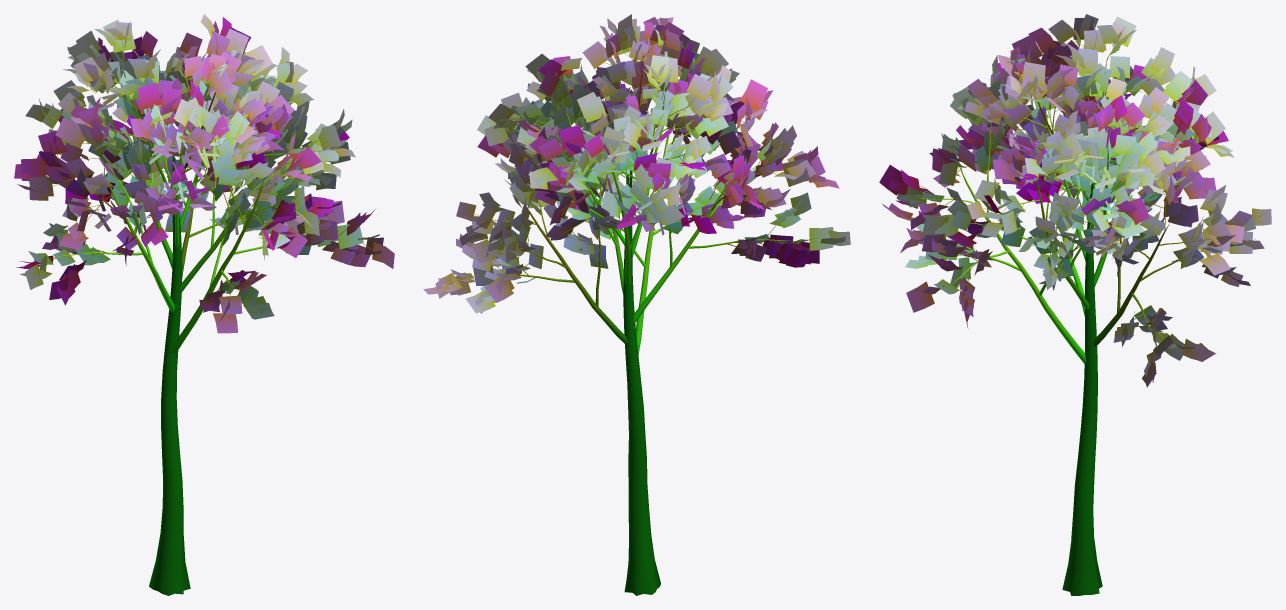
Rendered from ulmus_minor.glb.
3 views of the same model, side by side, from view 1: azimuth 30°, elevation 25°; view 2: azimuth 150°, elevation 25°; view 3: azimuth 270°, elevation 25° (orthographic). The views are drawn at different scales.
Parts seen in each view (by area): view 1: ulmus_minor_lod0; view 2: ulmus_minor_lod0; view 3: ulmus_minor_lod0.
Part boxes in pixels (box(x1,y1,x2,y2)): ulmus_minor_lod0: box(14, 14, 394, 595); ulmus_minor_lod0: box(423, 14, 850, 595); ulmus_minor_lod0: box(879, 14, 1271, 595).
Size of what is drawn, in the model's own units: 10.73 by 16.27 by 10.49.
